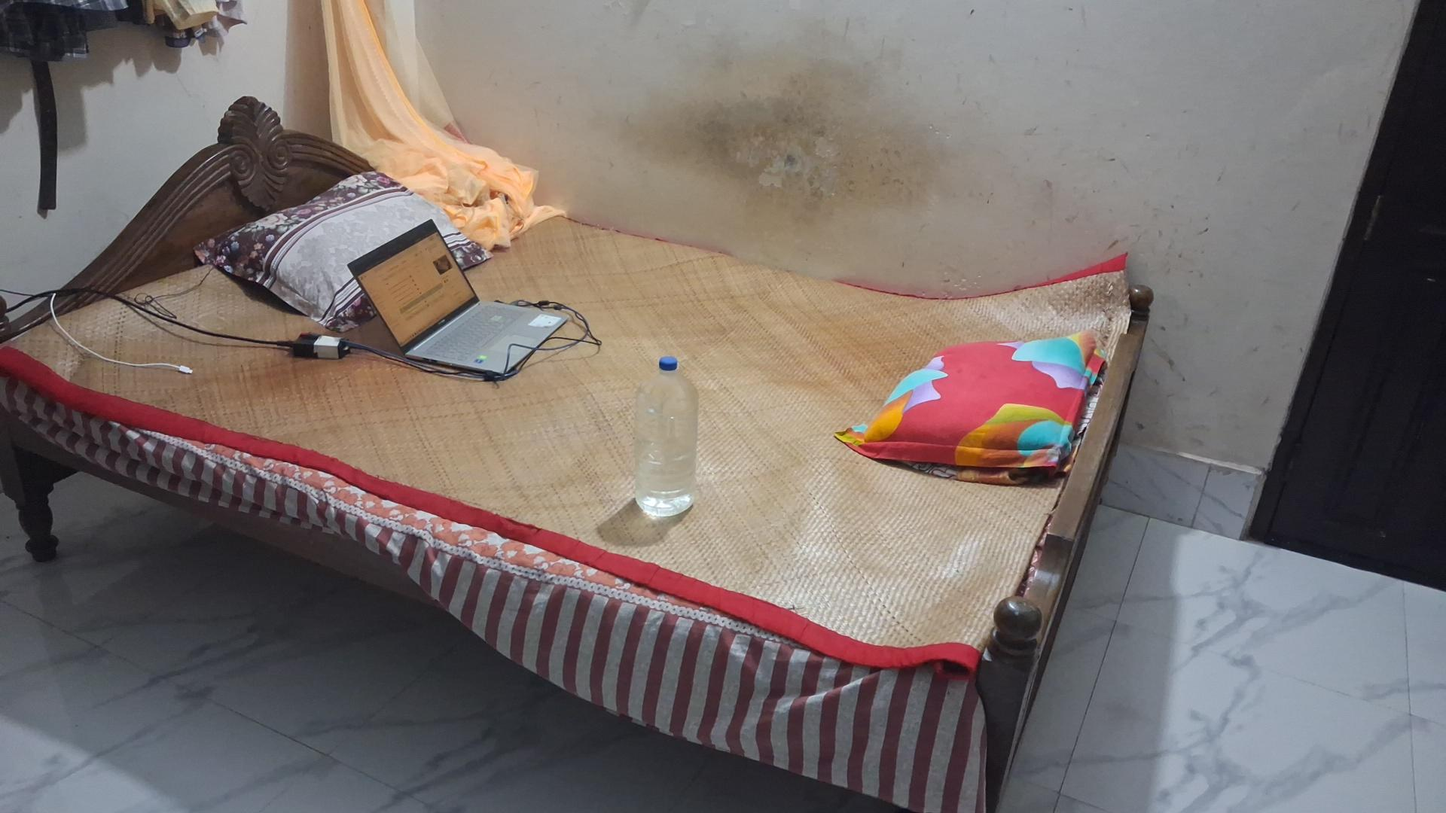Bottle: (633, 356, 698, 518)
Laptop: (346, 219, 572, 382)
Pillow: (182, 161, 477, 321), (859, 315, 1094, 485)
